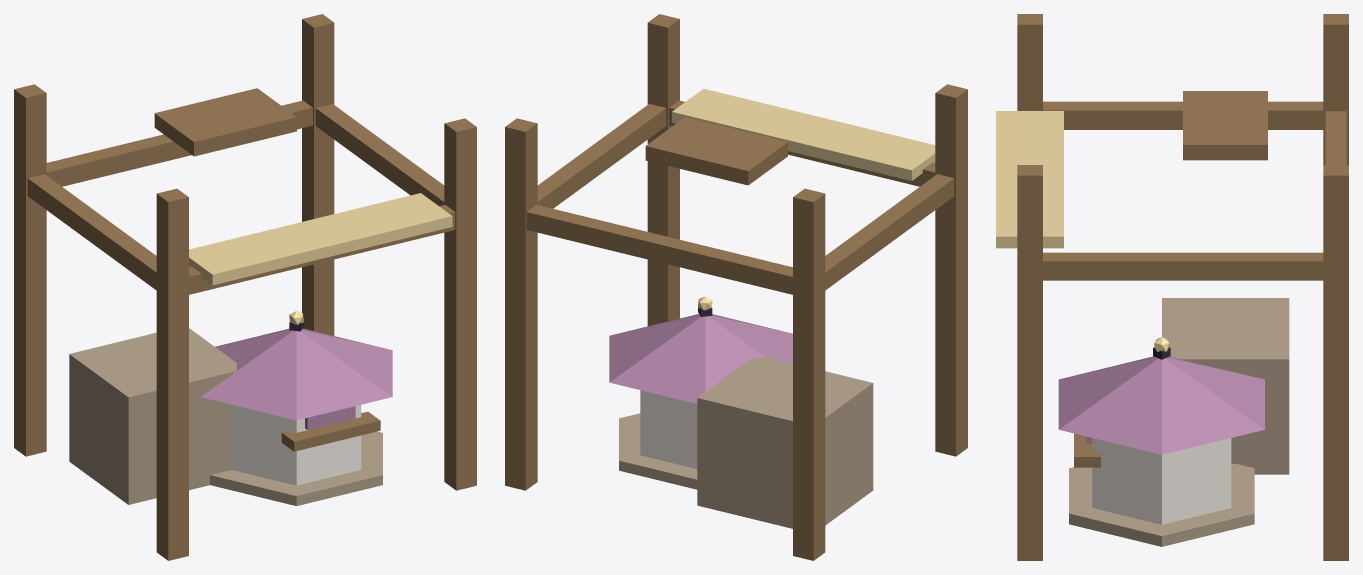
The model's file is city-scaffold.glb.
3 renders of one model, left to right at view 1: azimuth 30°, elevation 25°; view 2: azimuth 150°, elevation 25°; view 3: azimuth 270°, elevation 25°, orthographic. The views are drawn at different scales.
Visible parts, largest first — view 1: city-scaffold; view 2: city-scaffold; view 3: city-scaffold.
Boxes of the visible parts, x1,y1,x2,y2 form: city-scaffold: (14,14,476,560); city-scaffold: (505,14,967,560); city-scaffold: (996,14,1348,560).
Size of the model in its own units: 0.9 by 1 by 0.83.
